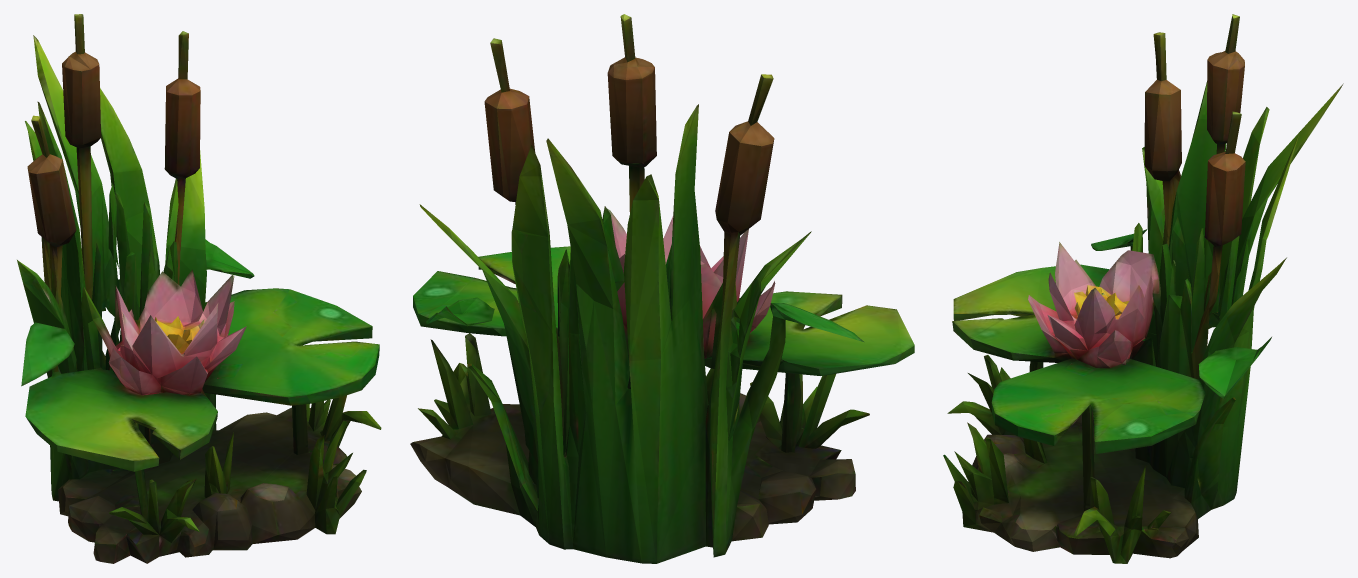
The model's file is d_marais_nenuphar.glb.
3 renders of one model, left to right at view 1: azimuth 30°, elevation 25°; view 2: azimuth 150°, elevation 25°; view 3: azimuth 270°, elevation 25°, orthographic. The views are drawn at different scales.
Visible parts, largest first — view 1: geometry_0; view 2: geometry_0; view 3: geometry_0.
Boxes of the visible parts, box(x1,y1,x2,y2) form: geometry_0: box(17, 14, 381, 563); geometry_0: box(410, 14, 914, 563); geometry_0: box(943, 14, 1343, 563).
Size of the model in its own units: 0.8248 by 1 by 0.8.
Materials: 1 (1 with a texture image).
